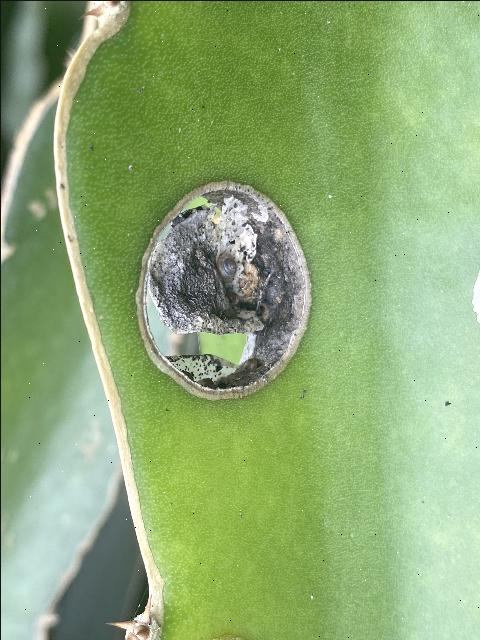stemcanker: (135, 174, 327, 407)
